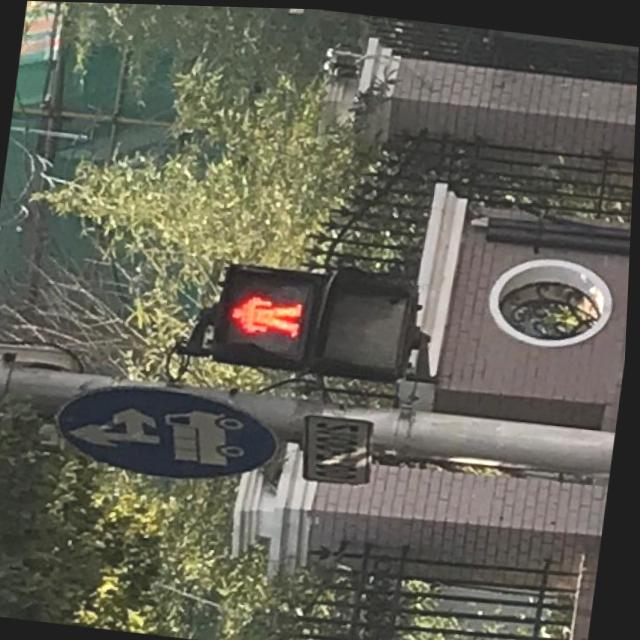red_light: (220, 263, 316, 357)
